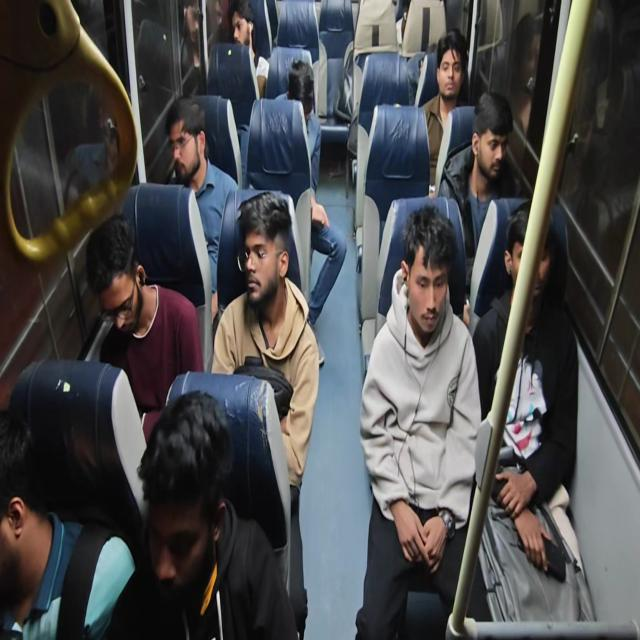person: (132, 386, 250, 625), (2, 390, 56, 580), (88, 218, 153, 345), (402, 201, 454, 336), (236, 193, 289, 309), (461, 84, 514, 197), (500, 199, 554, 303), (168, 96, 218, 199), (222, 1, 264, 70), (279, 60, 319, 119), (436, 30, 465, 101)
